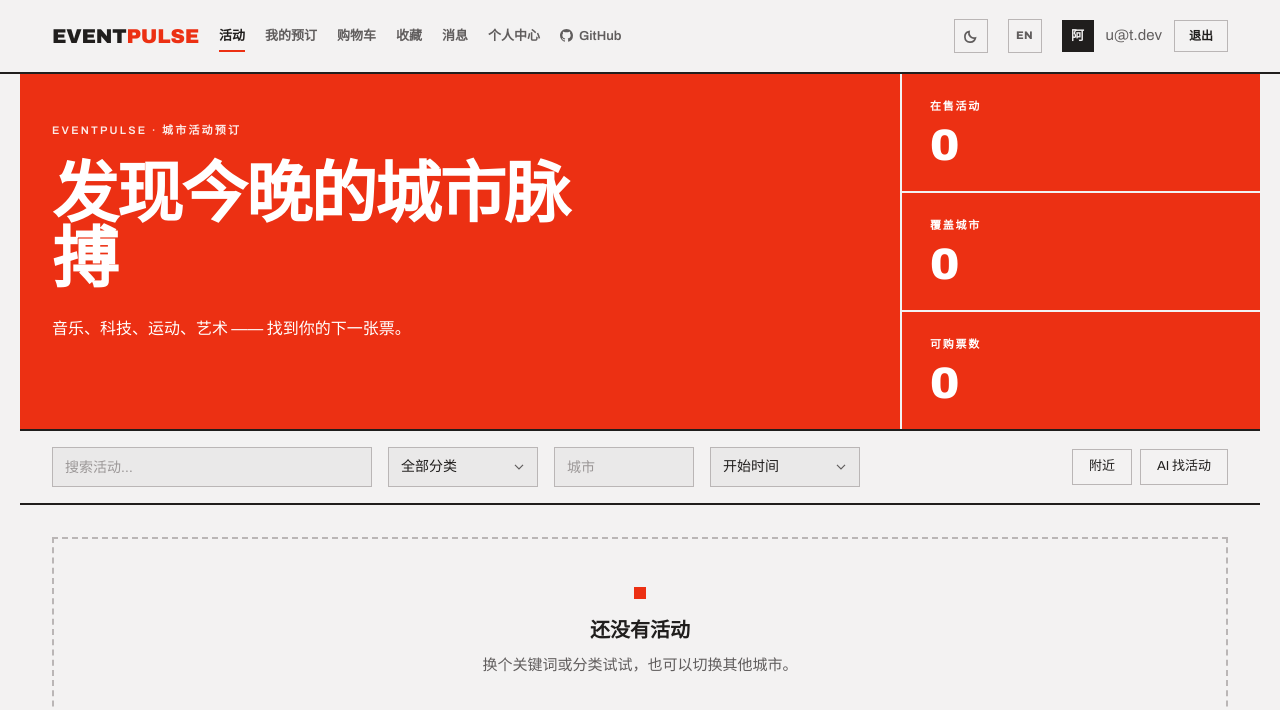
Test: ProfilePage › navigates to profile from the top bar avatar
Click the link "个人中心" at point(514, 36), box [488, 29, 540, 43]
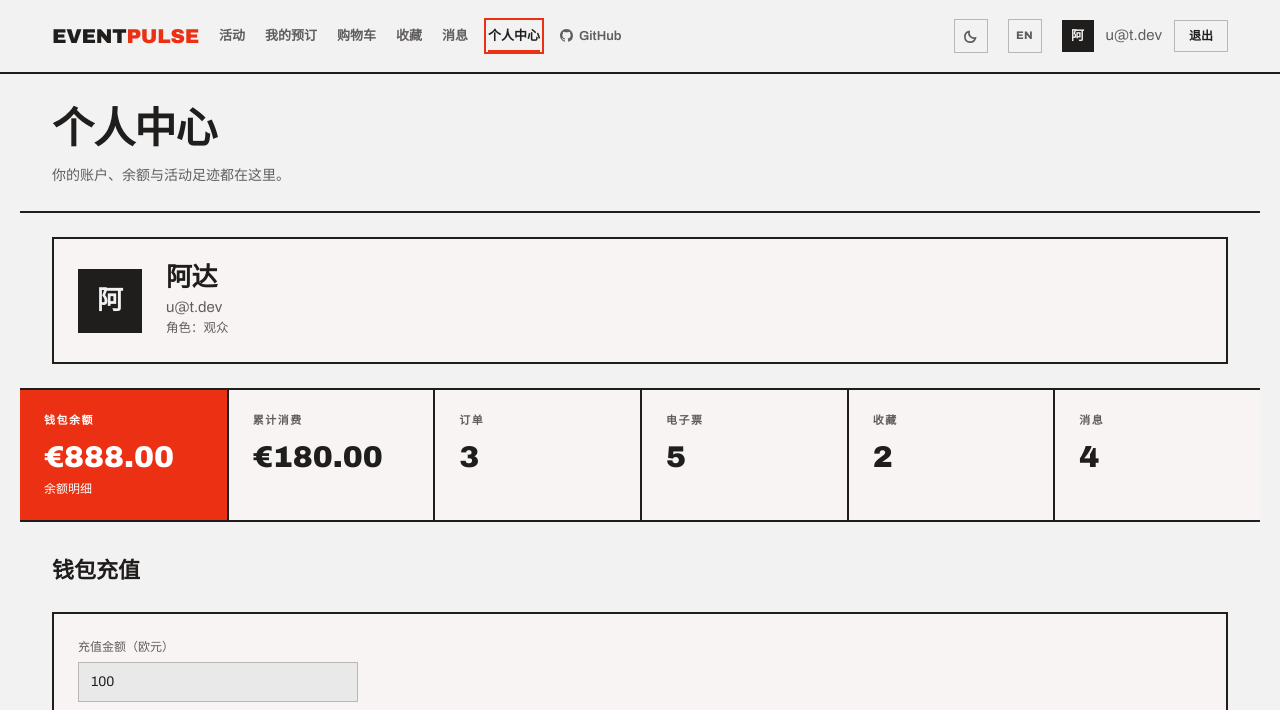
Result: the heading "个人中心" is shown at [52, 106, 217, 152]
